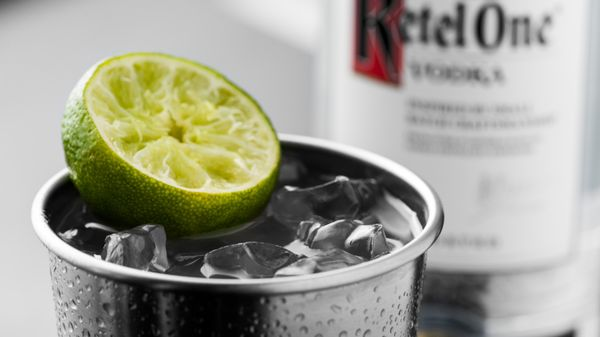sushi: (24, 32, 444, 333), (28, 124, 445, 333)
taco: (61, 52, 282, 235)
